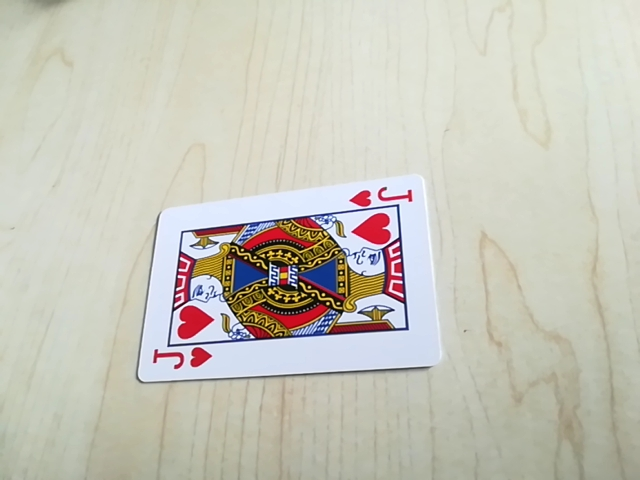hx j: (147, 346, 217, 378), (347, 181, 416, 209)
